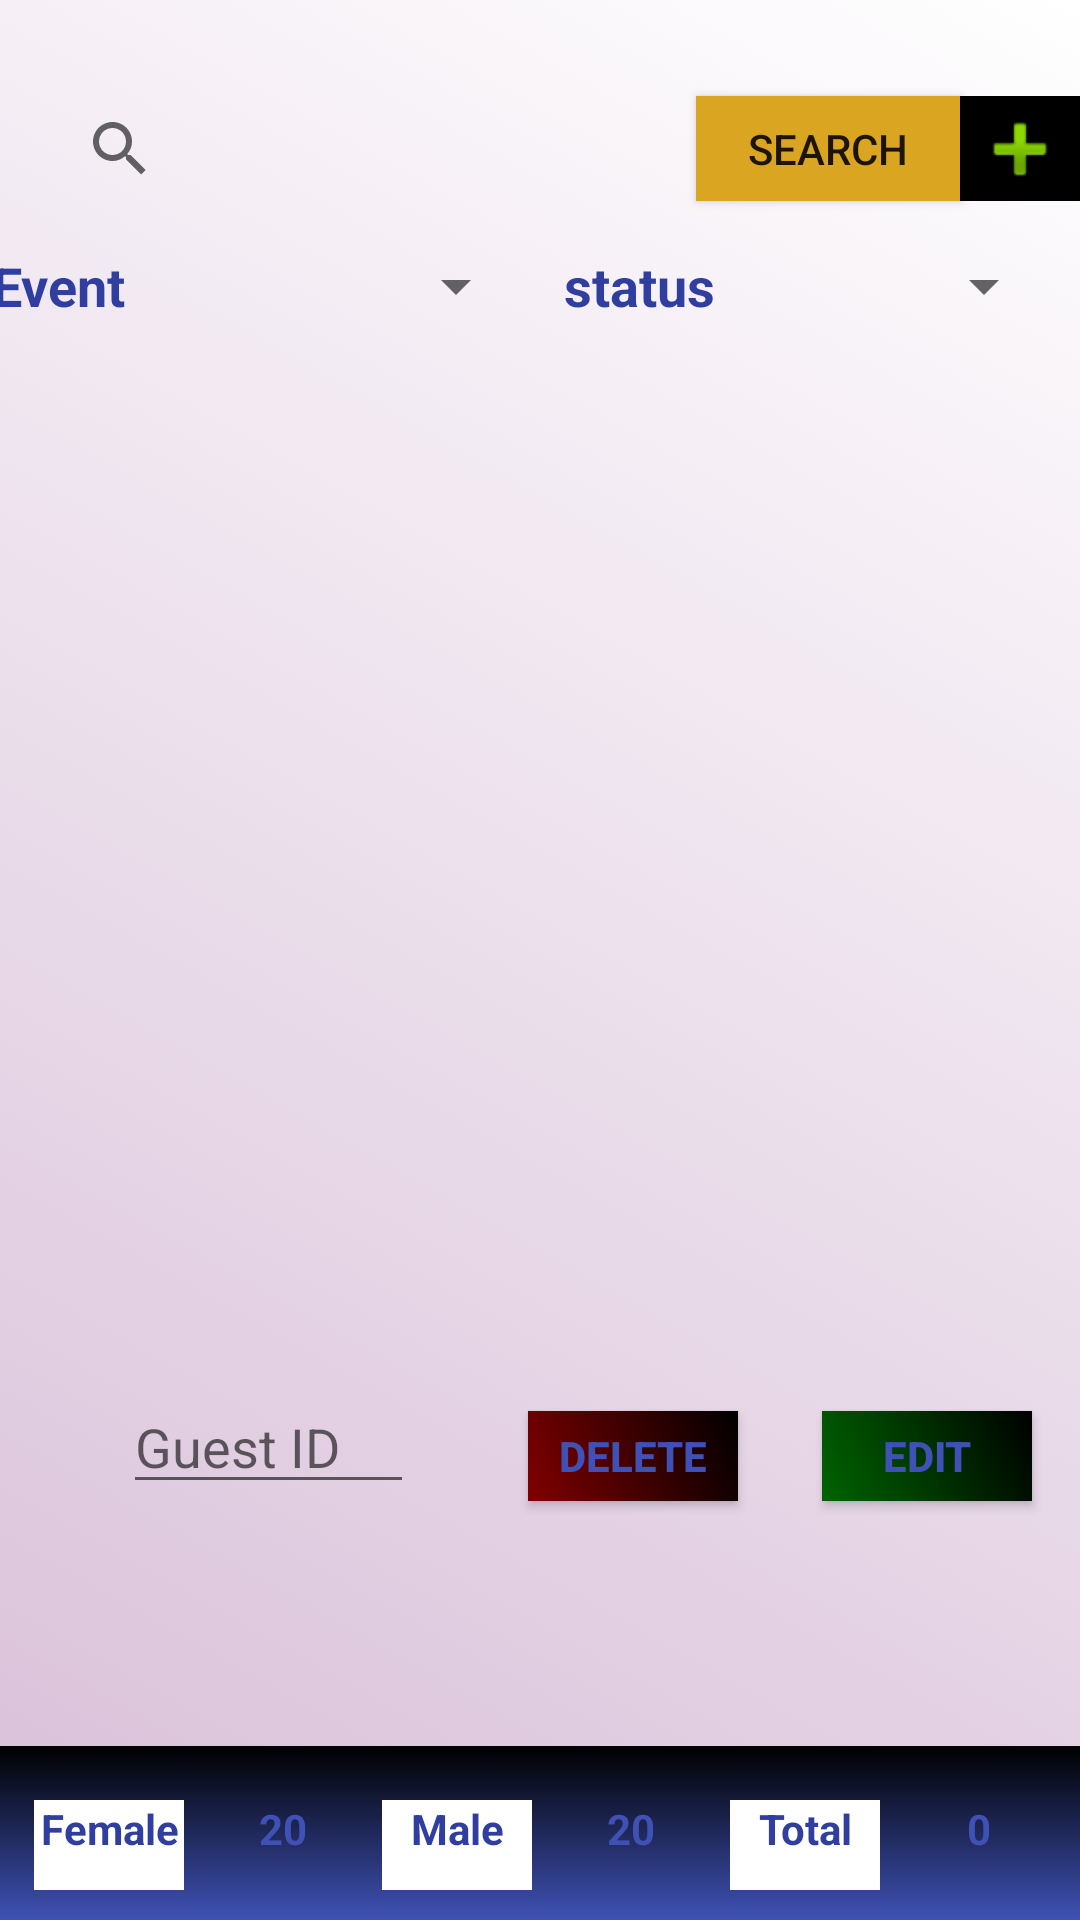

Screen size 1080 x 1920. Icon name, then its center in pixels as (x,y):
add: (1020,148)
